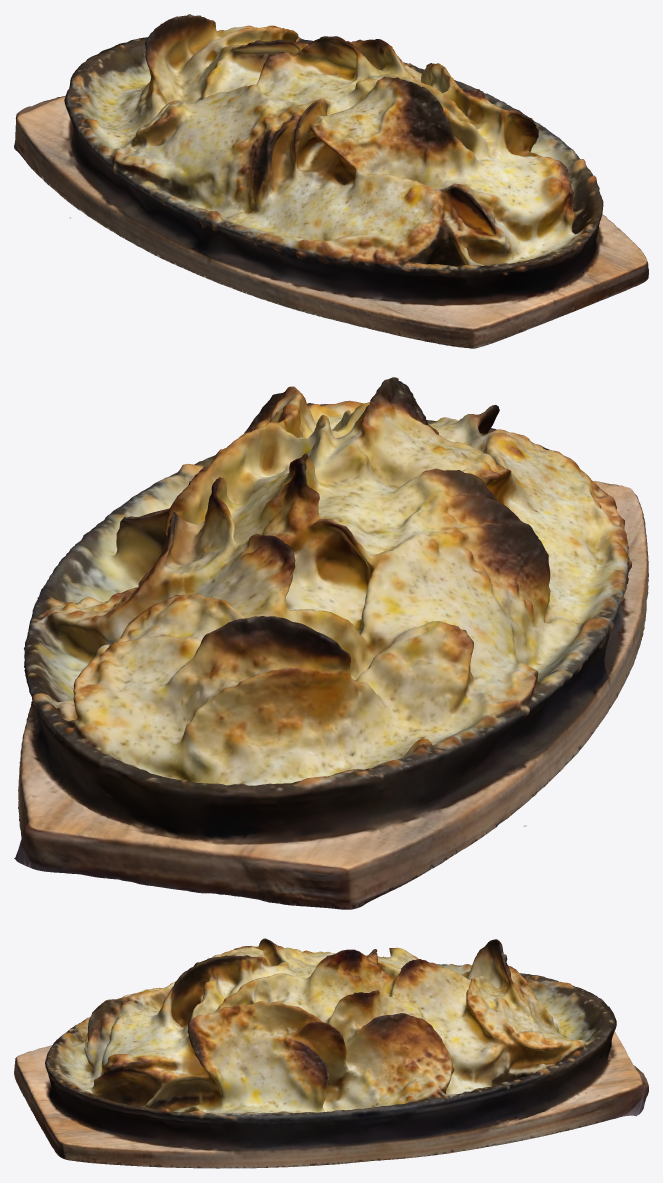
File: Chips.Panir.glb
The picture shows the model from 3 angles, top to bottom: view 1: azimuth 30°, elevation 25°; view 2: azimuth 150°, elevation 25°; view 3: azimuth 270°, elevation 25°; orthographic projection. The views are drawn at different scales.
Parts seen in each view (by area): view 1: 3DModel; view 2: 3DModel; view 3: 3DModel.
Boxes of the visible parts, left/top/right/bottom form: 3DModel: left=14, top=14, right=648, bottom=348; 3DModel: left=14, top=377, right=648, bottom=909; 3DModel: left=14, top=938, right=648, bottom=1168.
Size of the model in its own units: 0.2444 by 0.1032 by 0.3967.
Materials: 1 (1 with a texture image).
